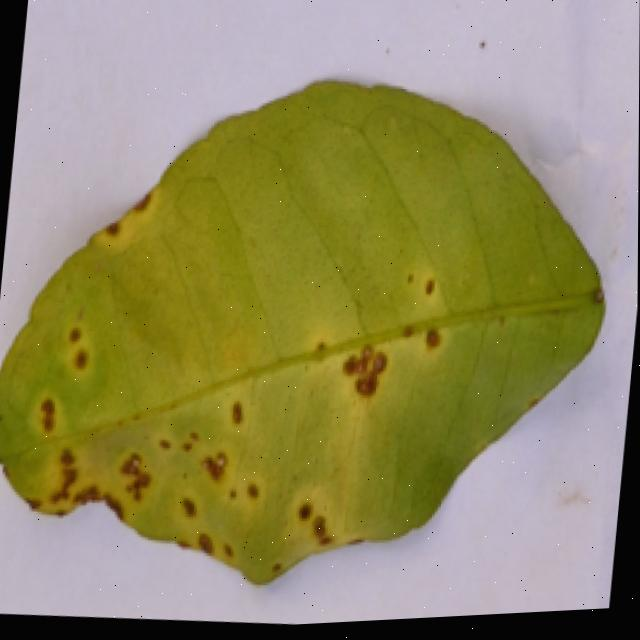canker: (0, 83, 601, 579), (0, 169, 345, 577), (316, 274, 446, 400), (344, 343, 383, 395)
